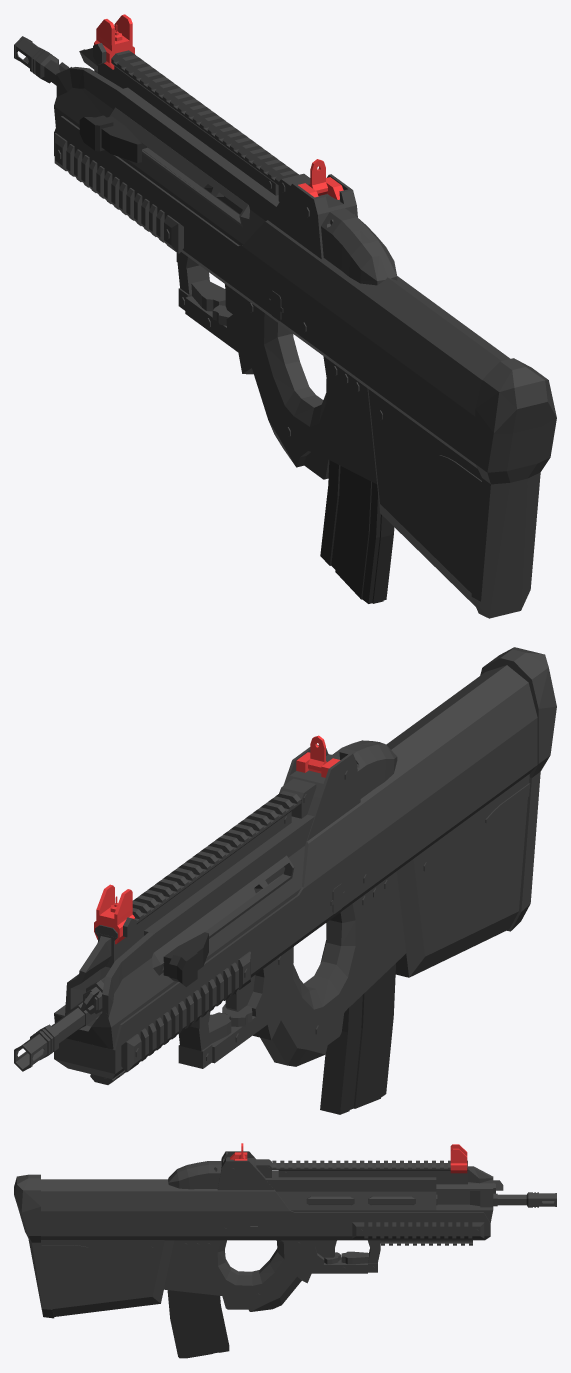
File: fusil_6.glb
3 views of the same model, one above another, from view 1: azimuth 30°, elevation 25°; view 2: azimuth 150°, elevation 25°; view 3: azimuth 270°, elevation 25° (orthographic). The views are drawn at different scales.
Visible parts, largest first — view 1: p8_paint, p120_paint, p77_paint, p117_paint, p121_mag, p5_paint, p6_paint, p111_paint, p97_paint, p34_paint, p19_paint, p0_paint (+3 smaller); view 2: p8_paint, p117_paint, p77_paint, p121_mag, p6_paint, p5_paint, p120_paint, p97_paint, p34_paint, p19_paint, p111_paint, p0_paint (+6 smaller); view 3: p8_paint, p117_paint, p77_paint, p6_paint, p121_mag, p5_paint, p120_paint, p19_paint, p97_paint, p111_paint, p12_paint, p39_paint (+9 smaller).
Part boxes in pixels (<box>): p8_paint: <box>54,116,510,468</box>; p120_paint: <box>471,358,556,618</box>; p77_paint: <box>185,291,376,483</box>; p117_paint: <box>367,388,481,606</box>; p121_mag: <box>79,115,394,603</box>; p5_paint: <box>56,67,279,220</box>; p6_paint: <box>54,49,265,245</box>; p111_paint: <box>321,208,397,285</box>; p97_paint: <box>268,174,357,259</box>; p34_paint: <box>109,107,249,227</box>; p19_paint: <box>98,63,278,195</box>; p0_paint: <box>14,36,60,85</box>; p8_paint: <box>54,665,537,1079</box>; p117_paint: <box>395,774,529,977</box>; p77_paint: <box>211,871,406,1066</box>; p121_mag: <box>163,932,395,1114</box>; p6_paint: <box>54,846,304,1049</box>; p5_paint: <box>102,814,314,1017</box>; p120_paint: <box>480,647,556,931</box>; p97_paint: <box>283,745,360,841</box>; p34_paint: <box>152,855,294,975</box>; p19_paint: <box>95,808,294,967</box>; p111_paint: <box>332,740,397,798</box>; p0_paint: <box>14,1008,102,1071</box>; p8_paint: <box>41,1179,490,1240</box>; p117_paint: <box>41,1240,174,1316</box>; p77_paint: <box>164,1240,367,1311</box>; p6_paint: <box>276,1176,493,1222</box>; p121_mag: <box>167,1290,229,1358</box>; p5_paint: <box>266,1170,436,1191</box>; p120_paint: <box>14,1174,54,1318</box>; p19_paint: <box>278,1169,467,1184</box>; p97_paint: <box>217,1151,274,1190</box>; p111_paint: <box>168,1161,221,1189</box>; p12_paint: <box>364,1222,472,1238</box>; p39_paint: <box>306,1194,437,1205</box>.
Size of the model in its own units: 0.0717 by 0.2979 by 0.69.
